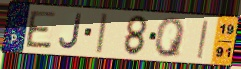8: (122, 14, 149, 57)
E: (25, 10, 58, 50)
I: (94, 12, 109, 55), (196, 19, 210, 61)
J: (57, 12, 83, 51)
Q: (154, 16, 187, 59)
